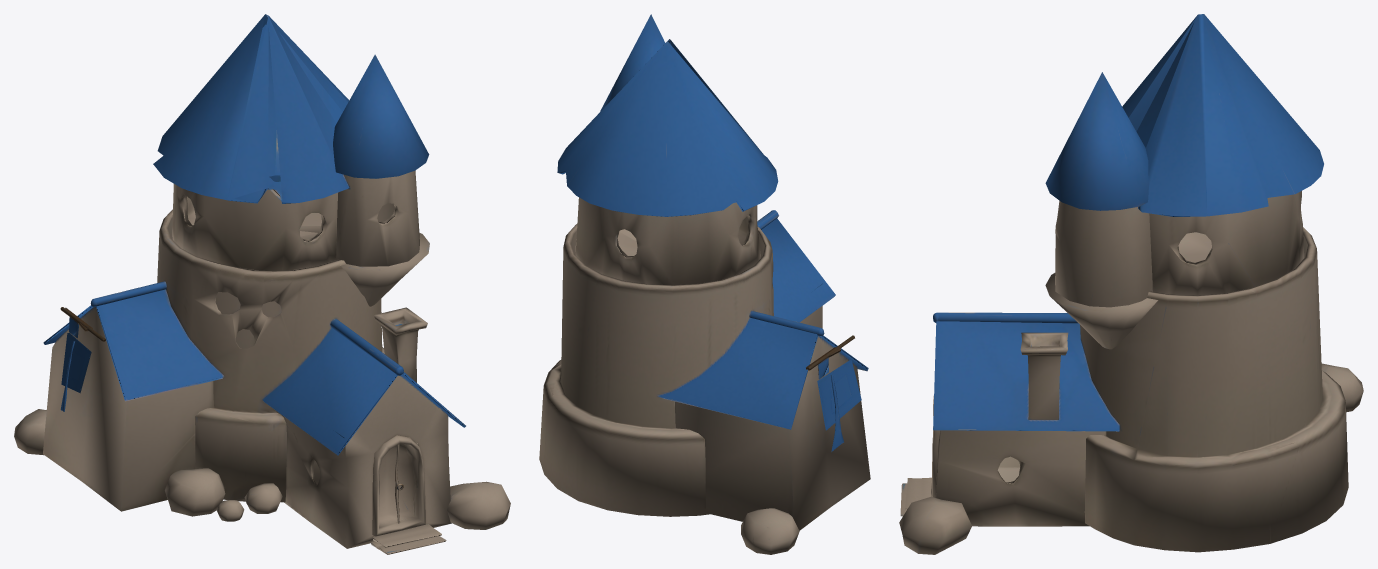
File: meshy-c-d1b.glb
The picture shows the model from 3 angles, left to right: view 1: azimuth 30°, elevation 25°; view 2: azimuth 150°, elevation 25°; view 3: azimuth 270°, elevation 25°; orthographic projection. The views are drawn at different scales.
Size of the model in its own units: 0.7483 by 1 by 0.8736.
Materials: 1 (1 with a texture image).
